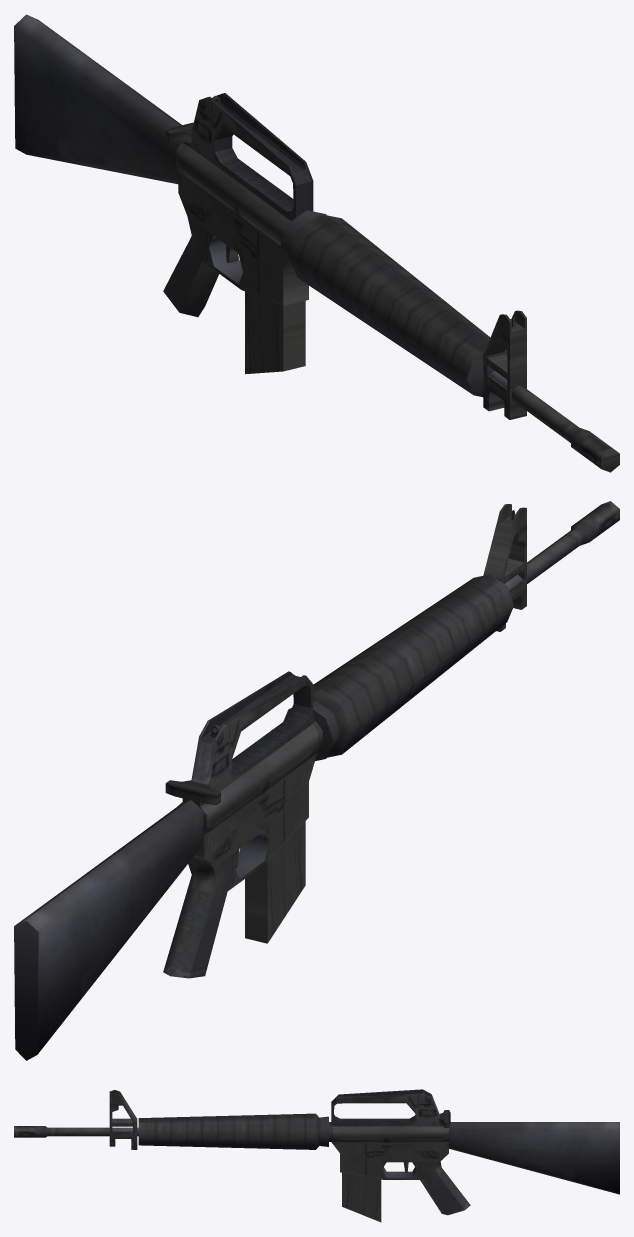
The model's file is AssaultRıfle2.fbx.
3 renders of one model, top to bottom at view 1: azimuth 30°, elevation 25°; view 2: azimuth 150°, elevation 25°; view 3: azimuth 270°, elevation 25°, orthographic. The views are drawn at different scales.
Parts seen in each view (by area): view 1: Body, Magazine; view 2: Body, Magazine; view 3: Body, Magazine.
Boxes of the visible parts, bbox=[...] form: Body: bbox=[14, 14, 619, 472]; Magazine: bbox=[245, 291, 305, 374]; Body: bbox=[14, 501, 619, 1060]; Magazine: bbox=[245, 821, 305, 943]; Body: bbox=[14, 1089, 619, 1215]; Magazine: bbox=[342, 1172, 381, 1222].
Size of the model in its own units: 42.28 by 158 by 678.
1 material, 1 textured.
